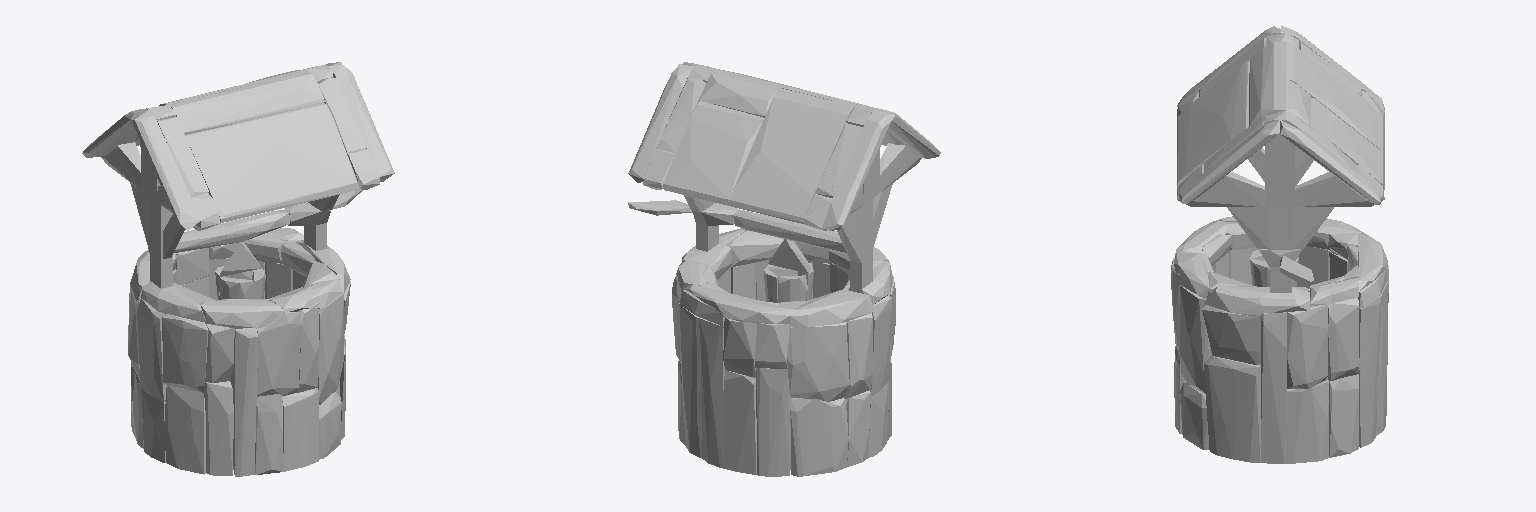
File: x_well.obj
The picture shows the model from 3 angles: view 1: azimuth 30°, elevation 25°; view 2: azimuth 150°, elevation 25°; view 3: azimuth 270°, elevation 25°; orthographic projection.
Visible parts, largest first — view 1: convex_19, convex_20, convex_56, convex_55, convex_52, convex_57, convex_18, convex_24, convex_59, convex_48, convex_0, convex_34 (+28 smaller); view 2: convex_8, convex_21, convex_29, convex_27, convex_84, convex_88, convex_86, convex_17, convex_85, convex_22, convex_1, convex_15 (+28 smaller); view 3: convex_25, convex_19, convex_8, convex_30, convex_6, convex_94, convex_71, convex_85, convex_89, convex_48, convex_46, convex_92 (+27 smaller).
Part boxes in pixels (left/top/right/bottom): convex_19: left=185, top=102, right=360, bottom=222; convex_20: left=169, top=71, right=324, bottom=134; convex_56: left=230, top=328, right=257, bottom=476; convex_55: left=164, top=385, right=205, bottom=474; convex_52: left=257, top=312, right=301, bottom=396; convex_57: left=162, top=314, right=208, bottom=392; convex_18: left=131, top=110, right=199, bottom=230; convex_24: left=282, top=388, right=318, bottom=471; convex_59: left=204, top=381, right=233, bottom=475; convex_48: left=318, top=291, right=343, bottom=404; convex_0: left=174, top=210, right=289, bottom=252; convex_34: left=137, top=298, right=166, bottom=402; convex_8: left=729, top=88, right=854, bottom=223; convex_21: left=663, top=101, right=763, bottom=205; convex_29: left=787, top=322, right=849, bottom=401; convex_27: left=790, top=398, right=848, bottom=476; convex_84: left=756, top=368, right=790, bottom=476; convex_88: left=699, top=318, right=724, bottom=468; convex_86: left=724, top=370, right=756, bottom=474; convex_17: left=822, top=111, right=891, bottom=230; convex_85: left=678, top=303, right=701, bottom=457; convex_22: left=699, top=71, right=779, bottom=117; convex_1: left=790, top=289, right=873, bottom=327; convex_15: left=684, top=284, right=794, bottom=323; convex_25: left=1204, top=355, right=1260, bottom=462; convex_19: left=1177, top=61, right=1249, bottom=186; convex_8: left=1281, top=41, right=1384, bottom=156; convex_30: left=1261, top=312, right=1286, bottom=463; convex_6: left=1227, top=207, right=1333, bottom=249; convex_94: left=1286, top=380, right=1328, bottom=463; convex_71: left=1287, top=304, right=1327, bottom=388; convex_85: left=1359, top=294, right=1381, bottom=447; convex_89: left=1202, top=305, right=1260, bottom=364; convex_48: left=1178, top=284, right=1209, bottom=394; convex_46: left=1204, top=286, right=1309, bottom=316; convex_92: left=1328, top=298, right=1358, bottom=380.
Size of the model in its own units: 1.5 by 1.98 by 1.14.